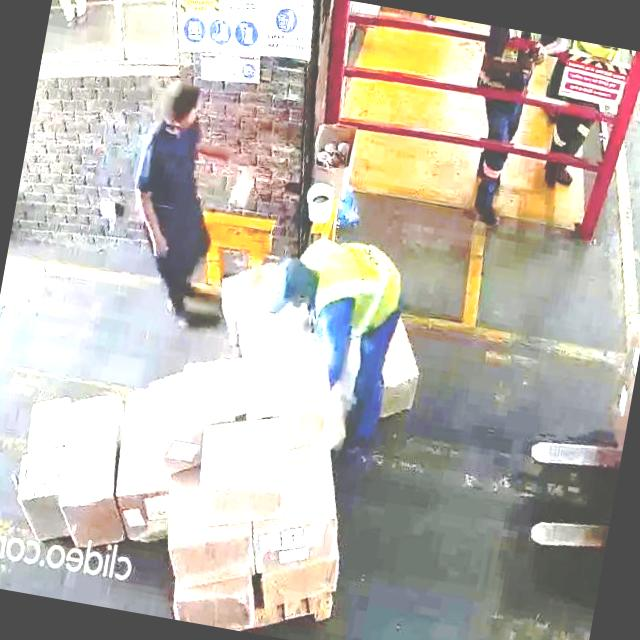Box: (183, 404, 297, 536), (56, 393, 132, 543), (240, 330, 344, 436), (144, 348, 236, 452), (252, 497, 342, 577), (167, 516, 256, 596), (12, 441, 70, 545), (258, 544, 342, 614), (174, 576, 254, 632), (19, 384, 75, 456)
